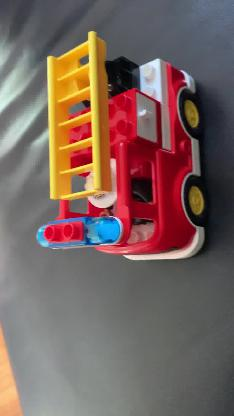lego fire truck: (36, 32, 206, 264)
